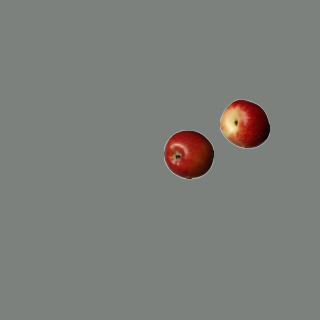Apple Braeburn: (163, 129, 213, 179)
Nectarine: (219, 98, 269, 148)
